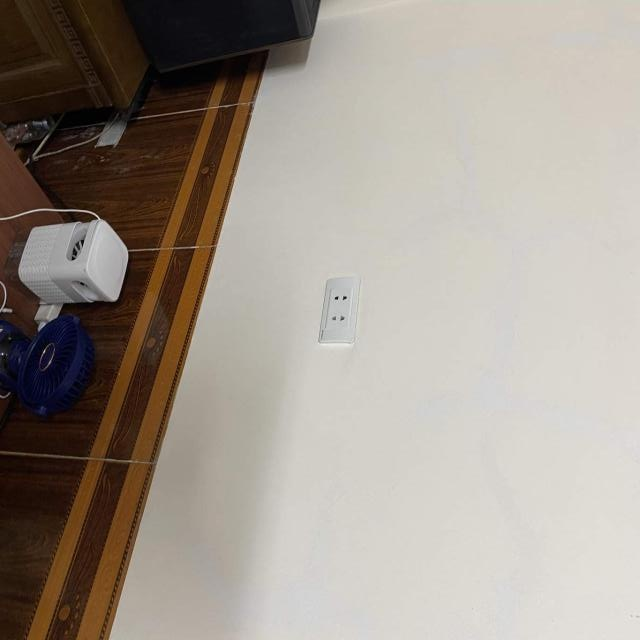outlet: (319, 276, 361, 344)
